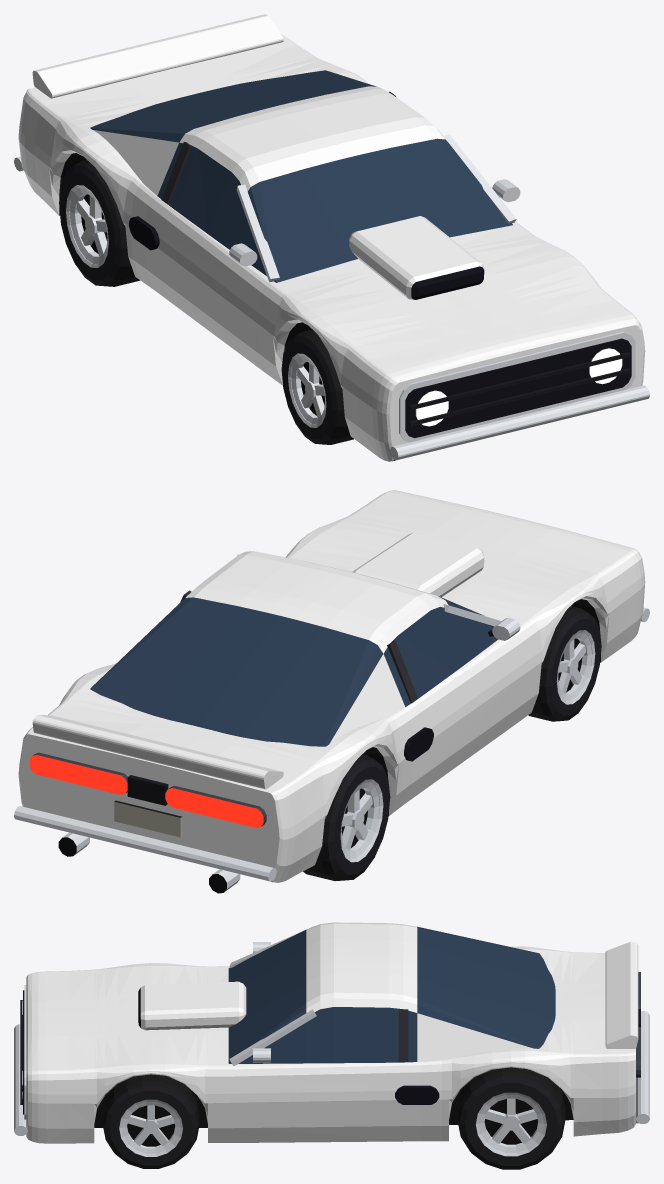
File: muscle.glb
The picture shows the model from 3 angles, top to bottom: view 1: azimuth 30°, elevation 25°; view 2: azimuth 150°, elevation 25°; view 3: azimuth 270°, elevation 25°; orthographic projection. The views are drawn at different scales.
Parts seen in each view (by area): view 1: paint, glass, chrome (×3), stripe_a, trim_grille, tire_side (×2), stripe_b, trim, tire (×2), headlight, trim_soft; view 2: paint, glass, chrome (×3), stripe_a, tire_side (×2), taillight, stripe_b, tire (×2), plate, trim, trim_under, chrome_housing (+2 smaller); view 3: paint, glass, chrome (×3), tire_side (×2), stripe_a, stripe_b, tire (×2), trim_under (×3), trim_grille, trim_soft, trim.
Part boxes in pixels (box(x1,y1,x2,y2)): paint: box(18, 14, 645, 461); glass: box(90, 70, 512, 282); chrome (×3): box(14, 134, 649, 460); stripe_a: box(124, 59, 559, 362); trim_grille: box(129, 216, 631, 438); tire_side (×2): box(59, 165, 337, 444); stripe_b: box(18, 127, 645, 413); trim: box(257, 194, 630, 426); tire (×2): box(75, 159, 353, 444); headlight: box(416, 348, 622, 426); trim_soft: box(161, 91, 395, 204); paint: box(18, 490, 645, 882); glass: box(90, 596, 497, 746); chrome (×3): box(14, 554, 649, 892); stripe_a: box(106, 507, 558, 772); tire_side (×2): box(327, 612, 601, 880); taillight: box(29, 754, 263, 828); stripe_b: box(18, 572, 645, 839); tire (×2): box(303, 606, 587, 880); plate: box(114, 802, 182, 837); trim: box(114, 630, 493, 817); trim_under: box(58, 599, 600, 893); chrome_housing: box(32, 752, 266, 826); paint: box(26, 922, 638, 1143); glass: box(228, 926, 555, 1063); chrome (×3): box(14, 926, 649, 1156); tire_side (×2): box(104, 1077, 563, 1169); stripe_a: box(26, 939, 605, 1040); stripe_b: box(26, 1063, 635, 1103); tire (×2): box(102, 1067, 565, 1153); trim_under (×3): box(94, 1084, 573, 1146); trim_grille: box(23, 988, 439, 1114); trim_soft: box(398, 1009, 408, 1061); trim: box(20, 1000, 640, 1104).
Bounding box in the file's own units: 1.98 × 1.28 × 4.59.
